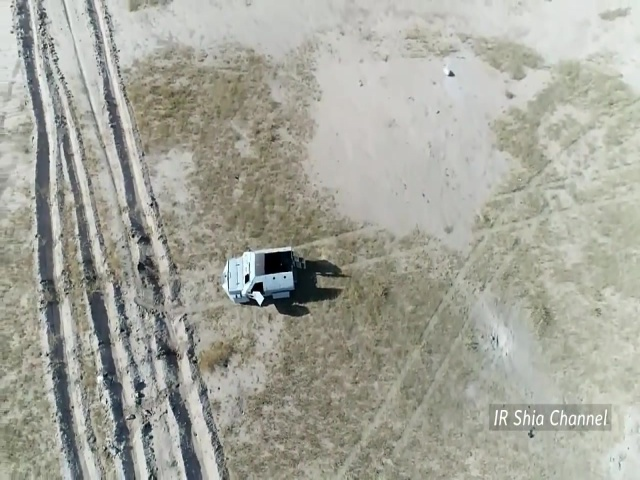vehicle: (223, 245, 298, 304)
